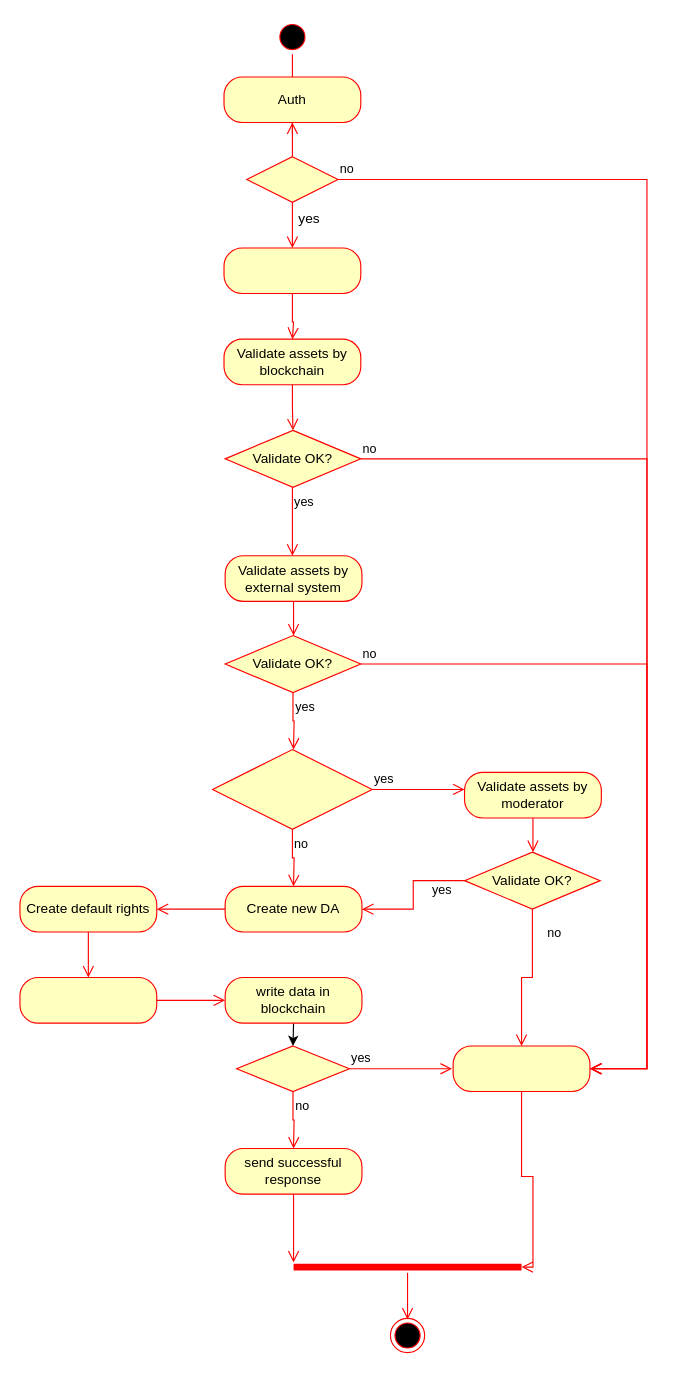
The diagram is 678 pixels wide and 1373 high, and some of its shapes have lost their labels. The centre of each missing label's shape, as x and y in pixels:
Auth OK?: pixel 292 179
Need validate by moderator?: pixel 291 788
send error responce: pixel 521 1068
upload file on file storage: pixel 88 999
upload request: pixel 292 270
was errors?: pixel 292 1068
